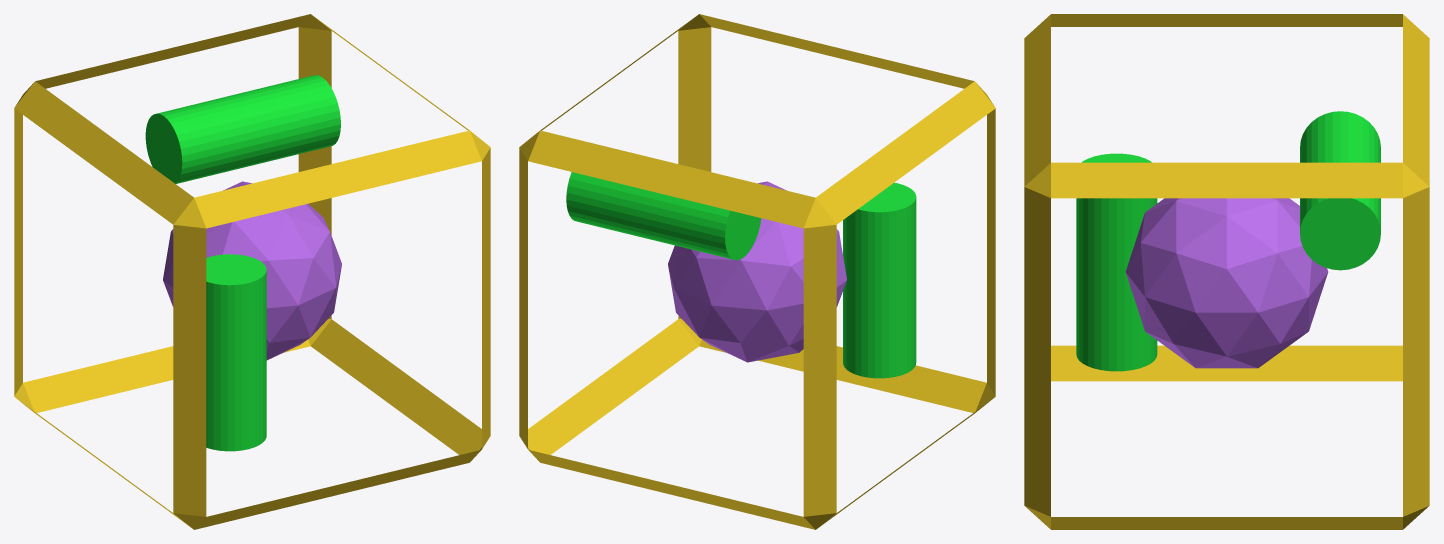
Rendered from tile.glb.
The picture shows the model from 3 angles, left to right: view 1: azimuth 30°, elevation 25°; view 2: azimuth 150°, elevation 25°; view 3: azimuth 270°, elevation 25°; orthographic projection. The views are drawn at different scales.
Visible parts, largest first — view 1: Cube, Cylinder.001, Icosphere, Cylinder; view 2: Cube, Icosphere, Cylinder, Cylinder.001; view 3: Cube, Icosphere, Cylinder, Cylinder.001.
Part boxes in pixels (left/top/right/bottom): Cube: left=14, top=14, right=490, bottom=529; Cylinder.001: left=145, top=75, right=340, bottom=183; Icosphere: left=163, top=181, right=341, bottom=360; Cylinder: left=206, top=254, right=266, bottom=451; Cube: left=519, top=14, right=995, bottom=529; Icosphere: left=668, top=181, right=846, bottom=362; Cylinder: left=843, top=182, right=916, bottom=378; Cylinder.001: left=566, top=172, right=761, bottom=260; Cube: left=1024, top=14, right=1429, bottom=529; Icosphere: left=1125, top=198, right=1328, bottom=368; Cylinder: left=1076, top=153, right=1157, bottom=371; Cylinder.001: left=1300, top=111, right=1380, bottom=270.
Bounding box in the file's own units: 2 × 2 × 2.
